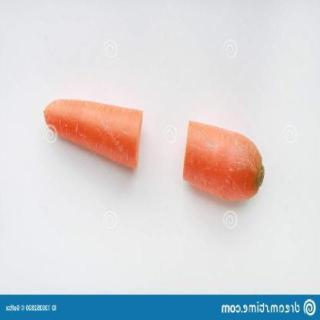carrot: (40, 96, 144, 172), (182, 118, 264, 205)
